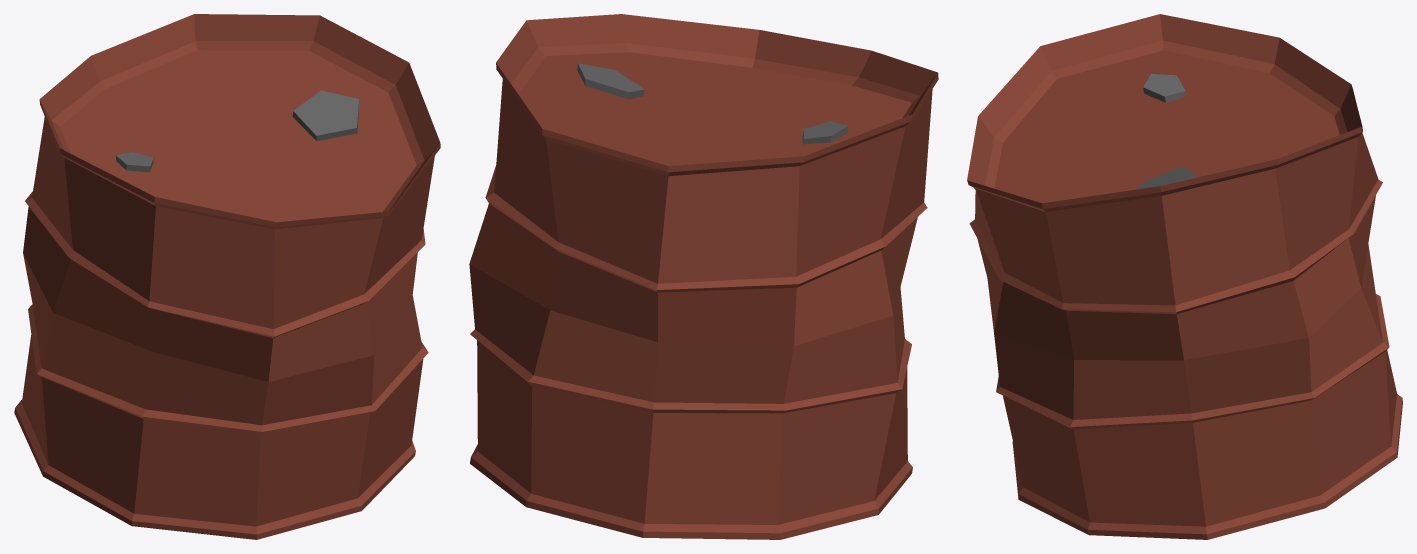
Rendered from drum-crushed.glb.
3 views of the same model, side by side, from view 1: azimuth 30°, elevation 25°; view 2: azimuth 150°, elevation 25°; view 3: azimuth 270°, elevation 25° (orthographic). The views are drawn at different scales.
Parts seen in each view (by area): view 1: DrumCrushed; view 2: DrumCrushed; view 3: DrumCrushed.
Boxes of the visible parts, left/top/right/bottom form: DrumCrushed: left=14, top=14, right=440, bottom=539; DrumCrushed: left=469, top=14, right=938, bottom=539; DrumCrushed: left=967, top=14, right=1402, bottom=539.
Size of the model in its own units: 0.6175 by 0.6066 by 0.6208.
